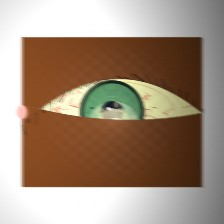corneal_ulcer: (88, 100, 139, 141)
